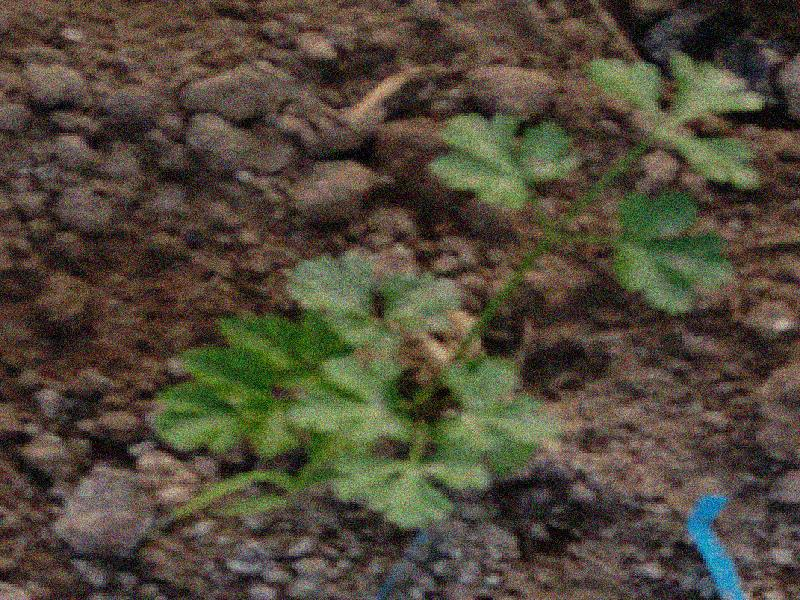radish: (0, 0, 785, 594)
